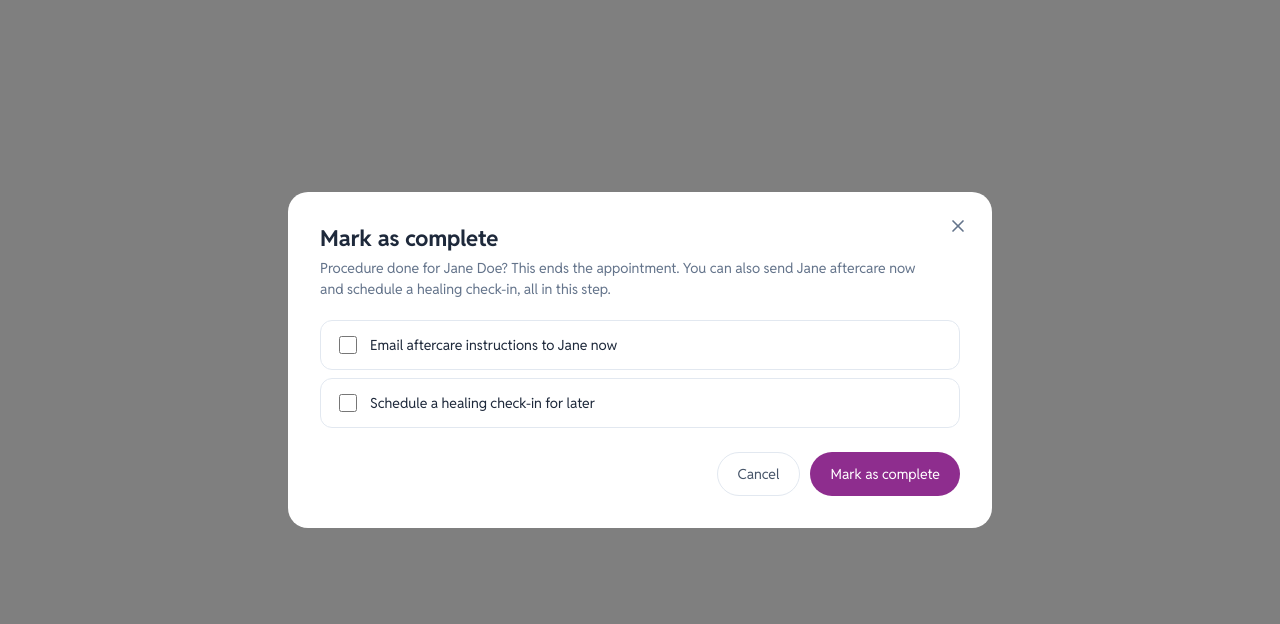
Test case: CareMessageModal › healing check-in in the same step › asks for the check-in right here, and only completes once it's ready
The image size is (1280, 624).
Later steps or results of the test are not shown.
Click the checkbox labelled "Schedule a healing check-in for later" at [348, 403], box [339,394,357,412]
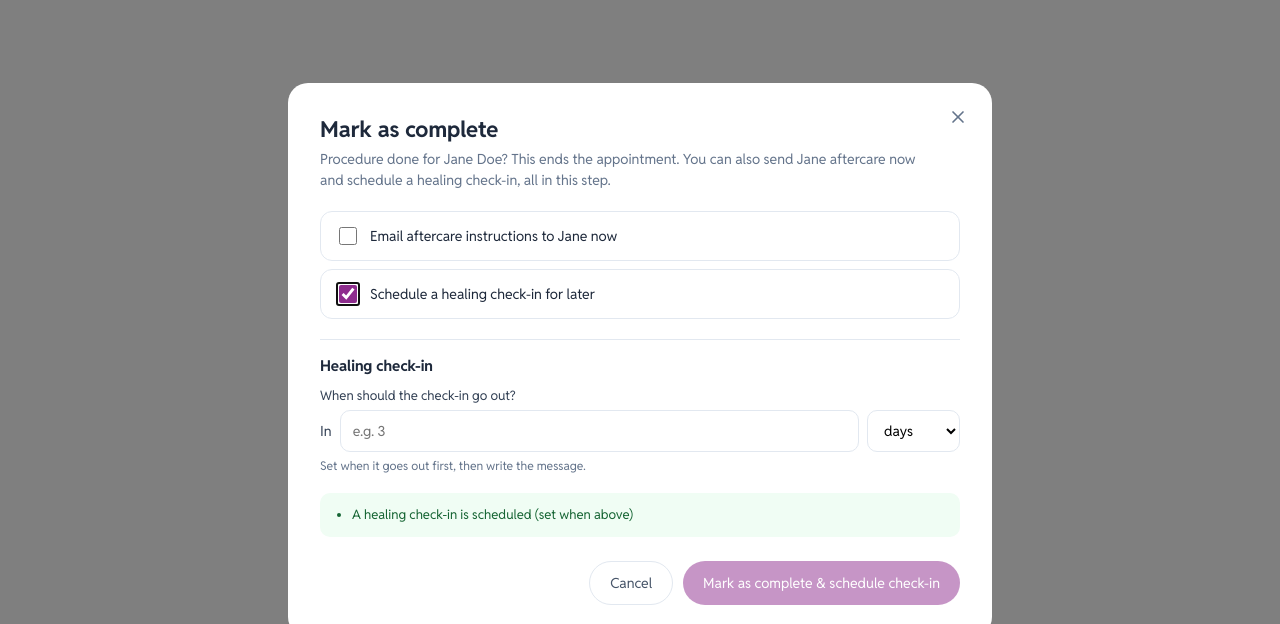
Expected: the button "Mark as complete & schedule check-in" is disabled, [683,561,960,605]
Type "2" into the number field named "How many" at [599, 431], box [340,410,859,452]
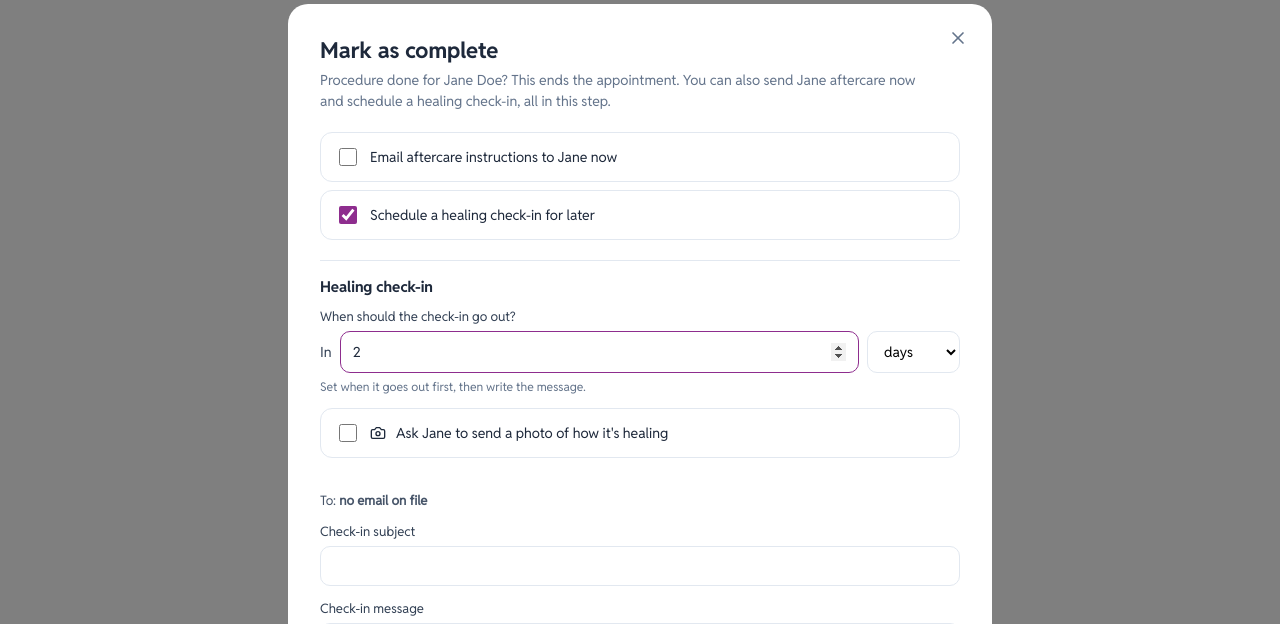
Select "weeks" in the dropdown named "Days, weeks or months" at [914, 352], box [867,331,960,373]
(page scrolled)
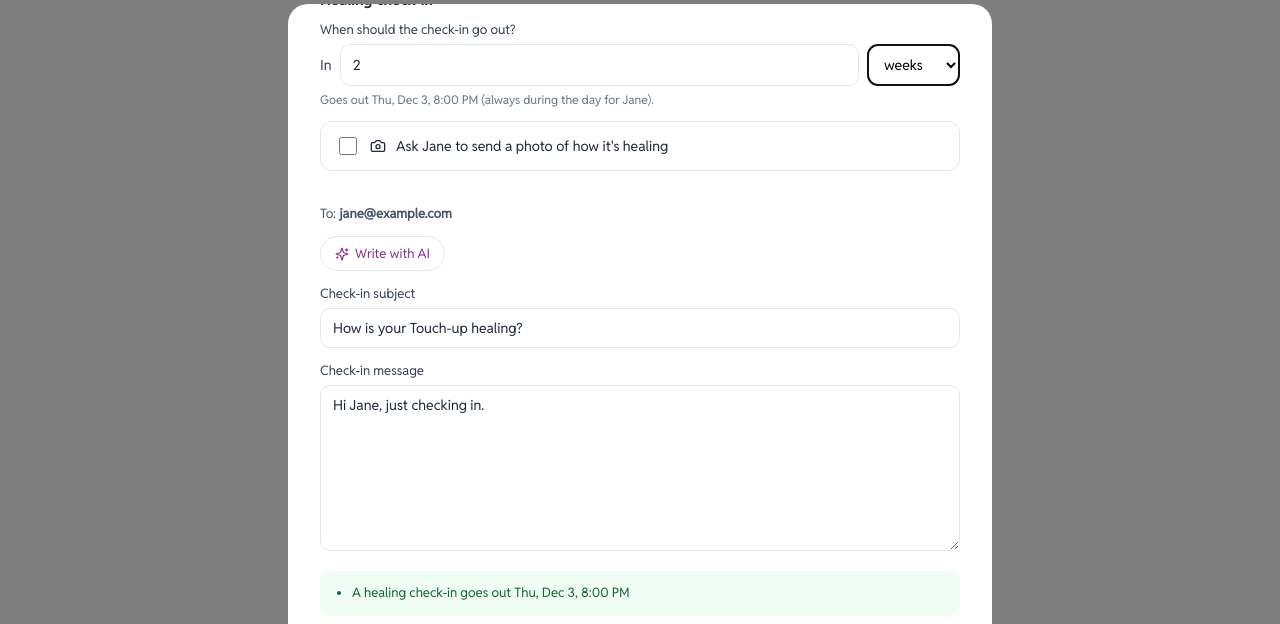
Expected: the text box labelled "Check-in message" holds "Hi Jane, just checking in.", [320,385,960,551]
Expected: the list named "What happens" shows "A healing check-in goes out", [352,584,630,601]
